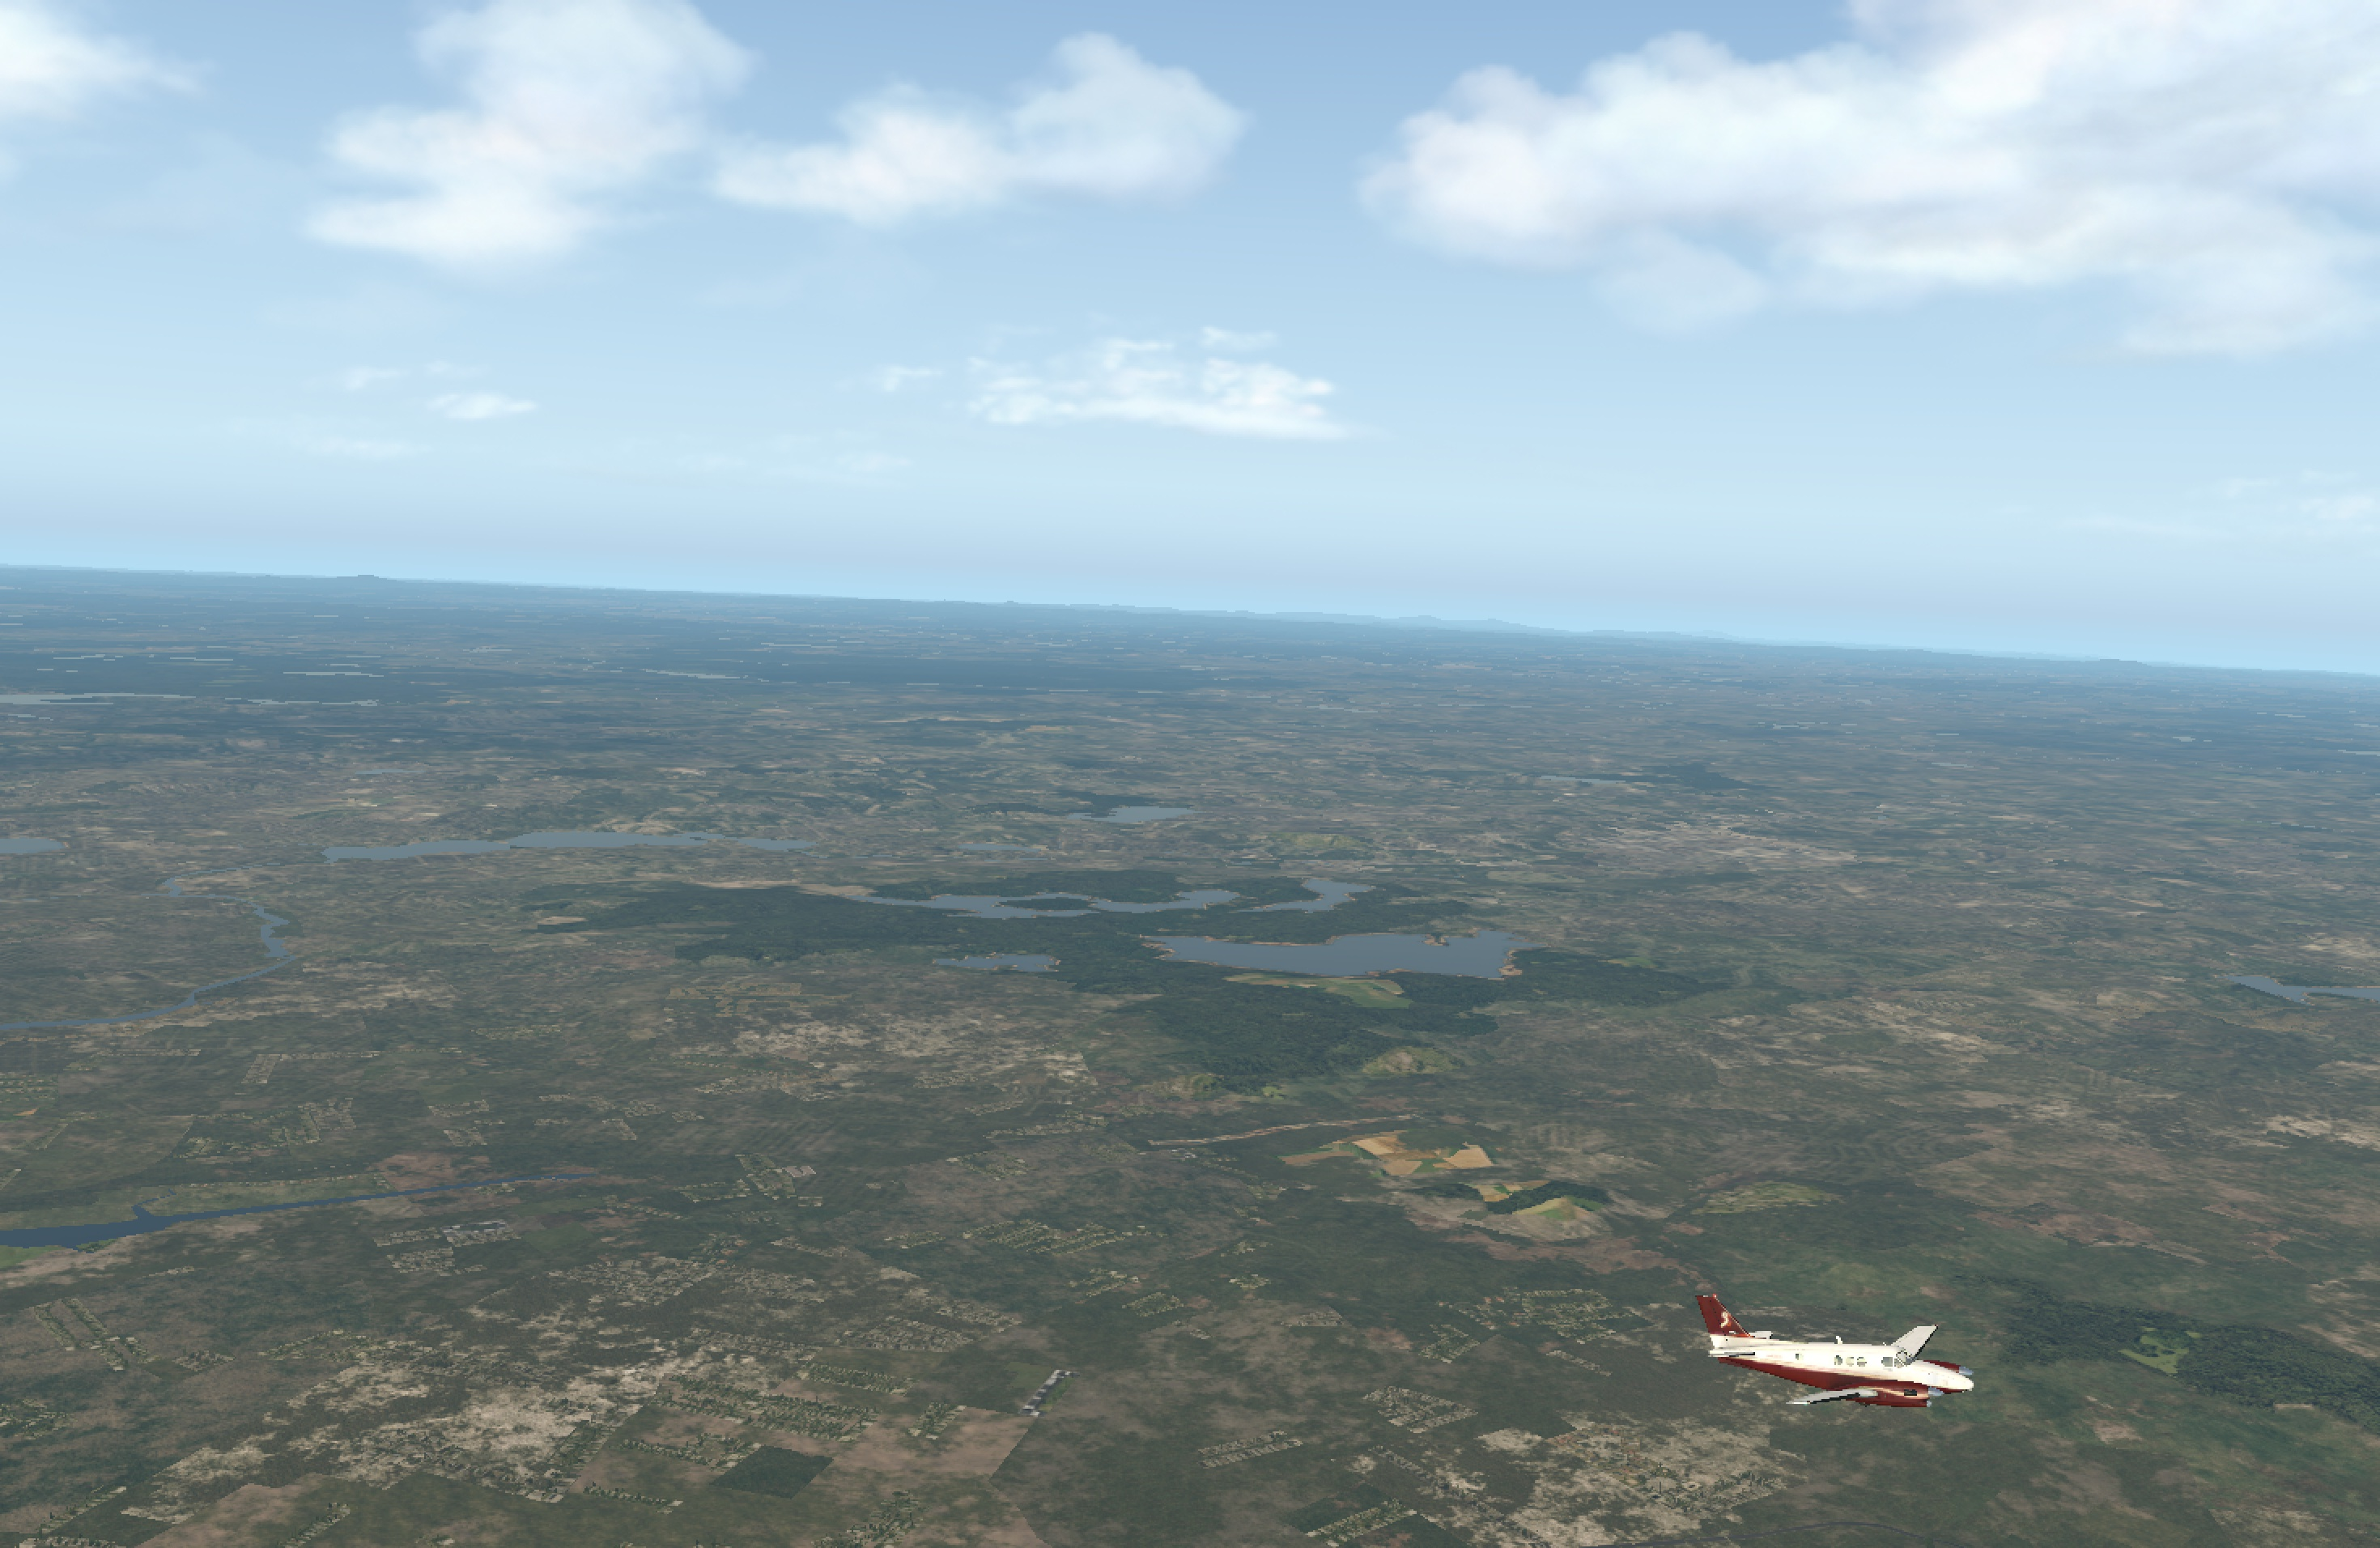aircraft: (1697, 1319, 2068, 1458)
